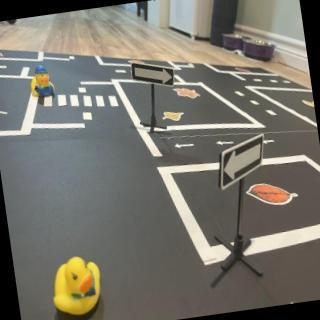duck_regular: (48, 255, 105, 318)
duck_specialty: (28, 64, 56, 100)
road_crosswalk: (39, 86, 121, 120)
road_oneway: (173, 139, 198, 153), (215, 134, 236, 148), (262, 136, 278, 147)
sign_oneway_left: (214, 132, 271, 190)
sign_oneway_right: (130, 57, 177, 94)
